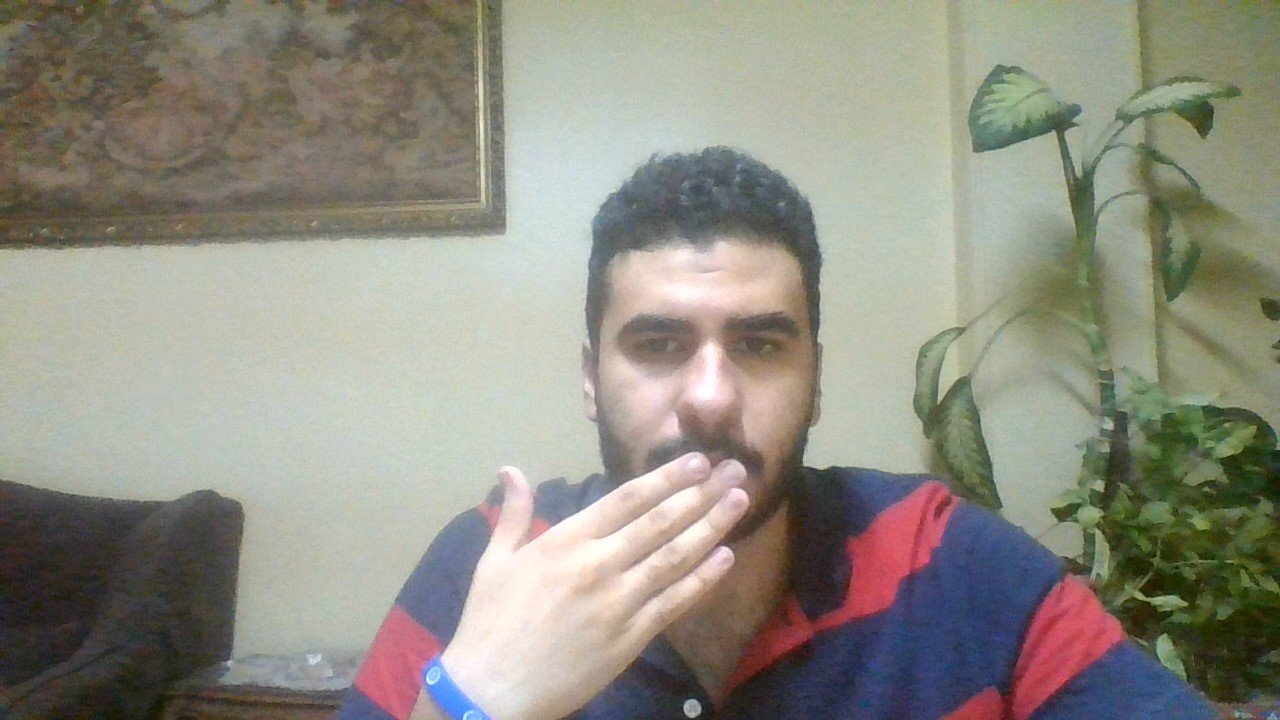thankyou: (486, 457, 748, 661)
